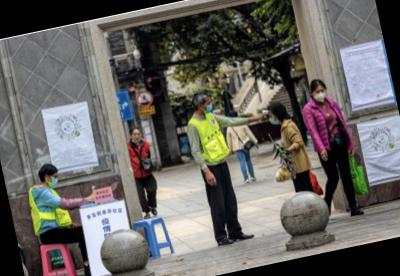mask_weared_incorrect: (131, 130, 142, 142)
with_mask: (312, 86, 328, 102), (202, 98, 215, 114), (267, 110, 280, 125), (48, 173, 60, 188)
